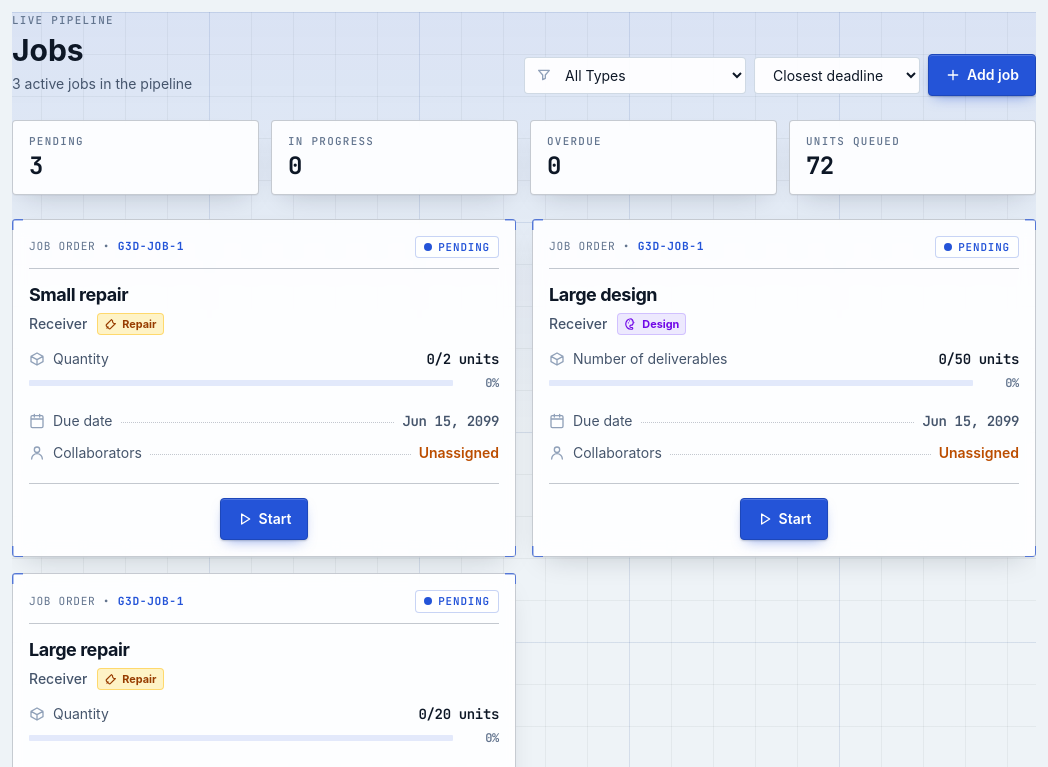
Test: Jobs category filter › continues sorting within the filtered results
Select "Repair" in the dropdown named "Filter by job type": (635, 75) [524, 57, 746, 94]
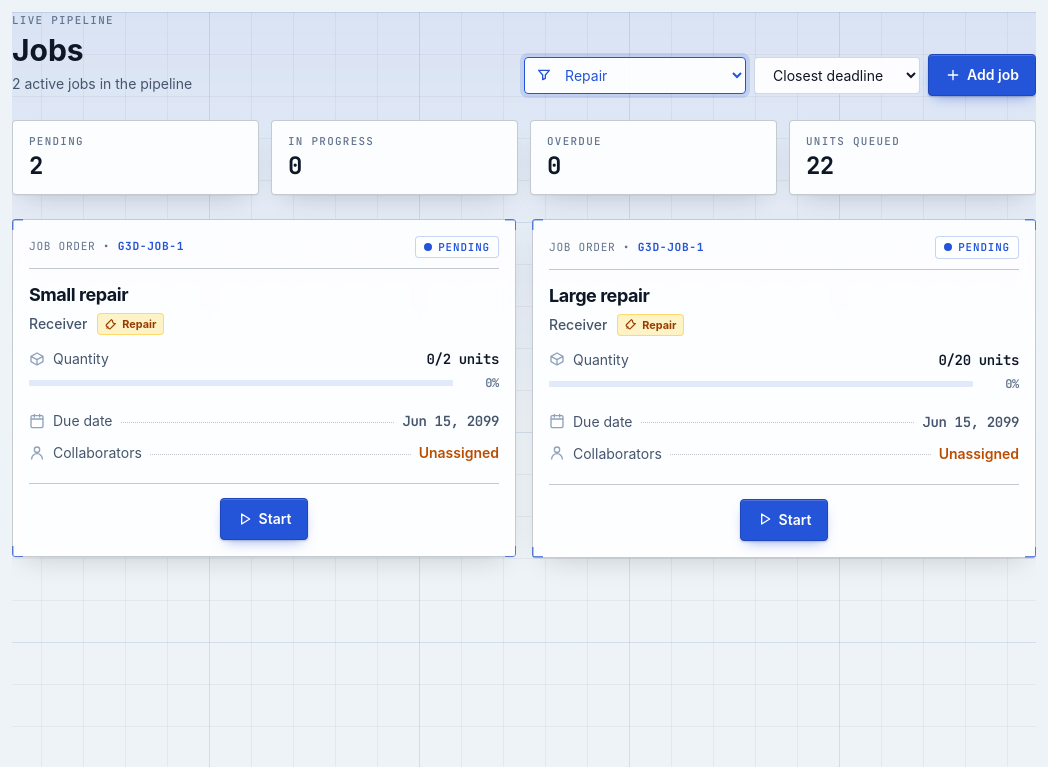
Select "Largest quantity" in the dropdown named "Sort jobs": (837, 75) [754, 57, 920, 94]
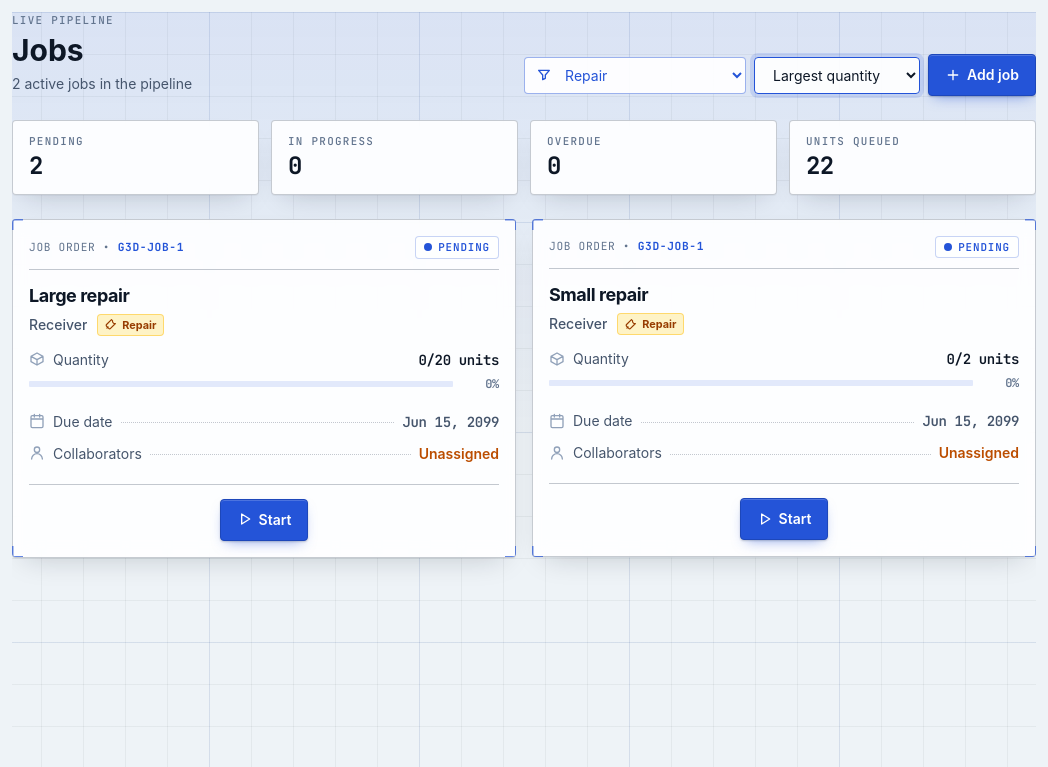
Result: the headings read "Large repair", "Small repair", in this order at [29, 284, 129, 305]; [549, 284, 648, 305]
